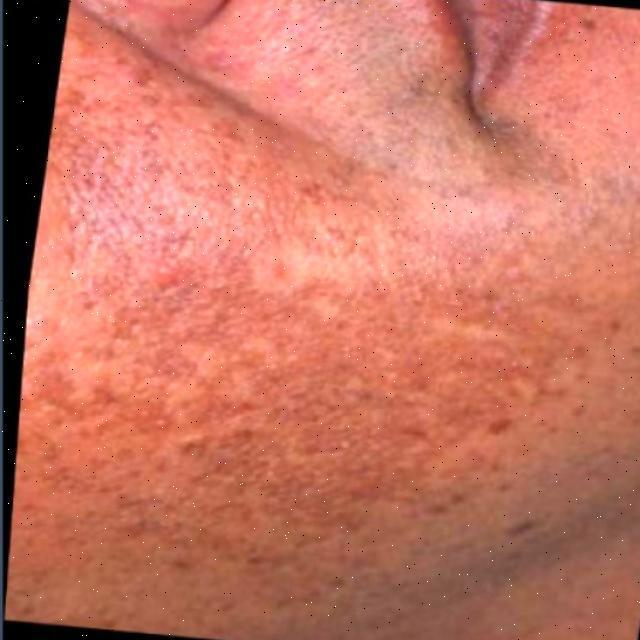Melasma: (48, 40, 630, 580)
